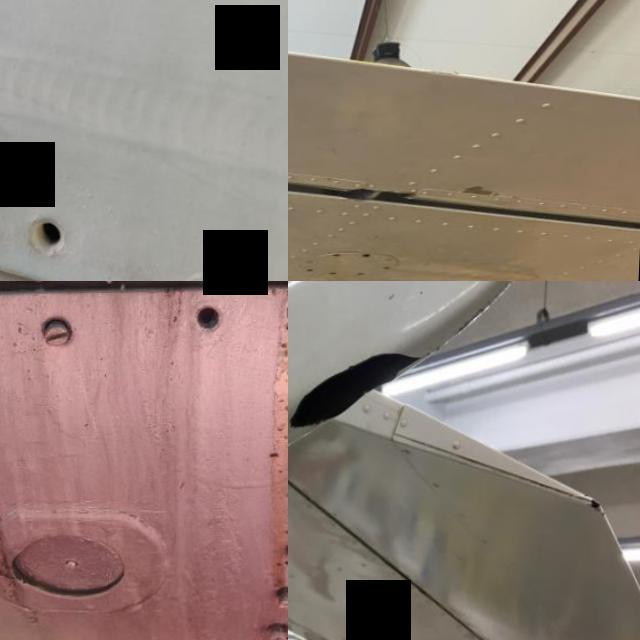Crack: (288, 331, 431, 440), (586, 492, 618, 524)
Missing_Fastener: (3, 190, 93, 281), (178, 292, 237, 348), (364, 253, 374, 260), (308, 268, 318, 274)
